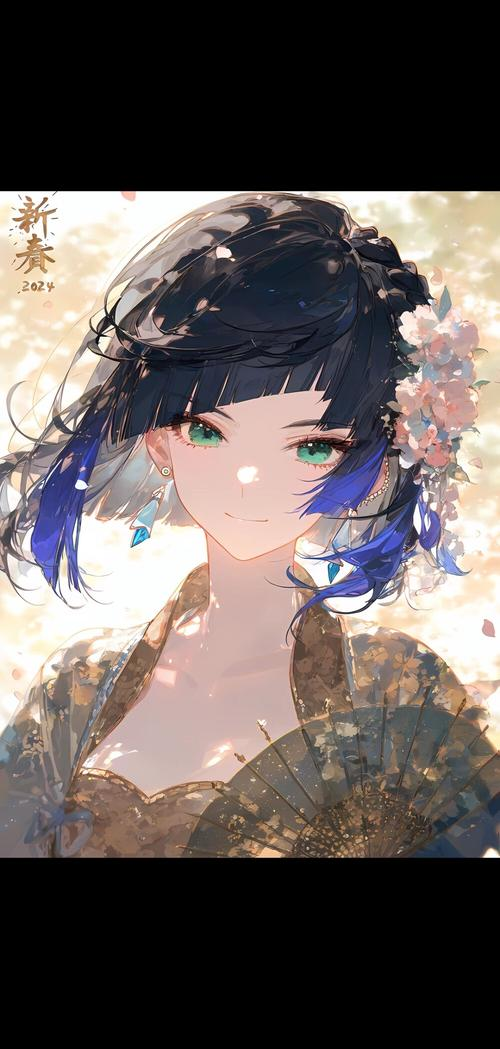夜兰: (26, 194, 496, 856)
